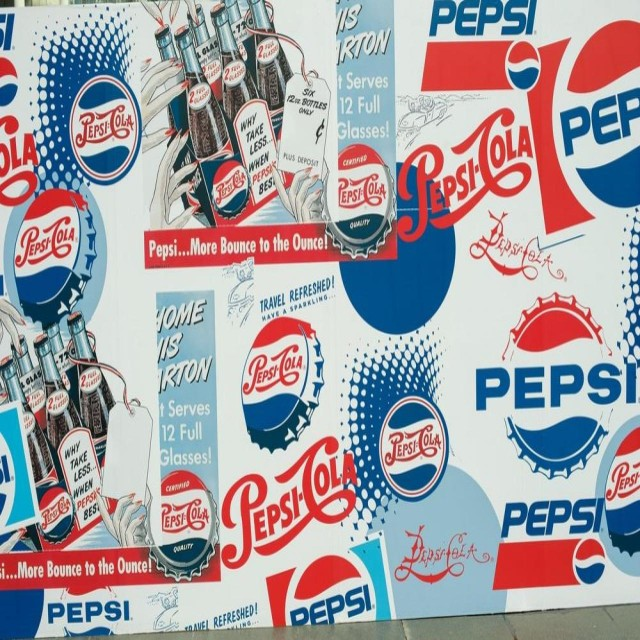pepsi: (508, 36, 542, 93), (576, 535, 608, 588)
